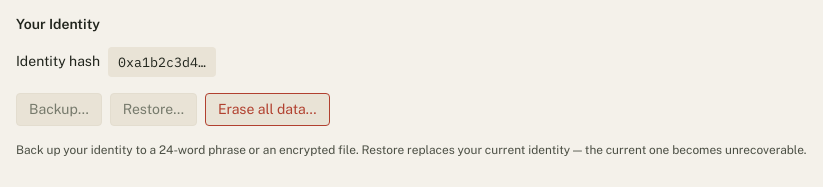
Test: IdentityPanel — wizard mode toggles › Cancel button in restore source picker returns to idle state
Expected: the button "0xa1b2c3d4…" is shown, [108,47,216,77]
Click the button "Restore…" at (153, 109), box [110,93,197,126]
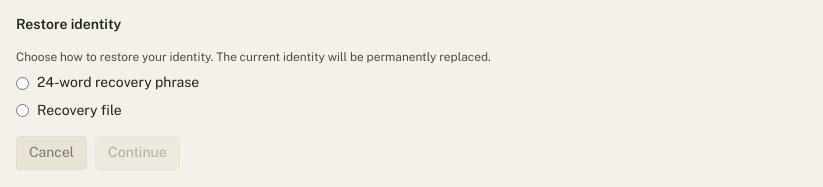
Now the heading "Restore identity" is shown, box [16,16,121,32]
Click the button "Cancel" at (52, 153), box [16,136,87,170]
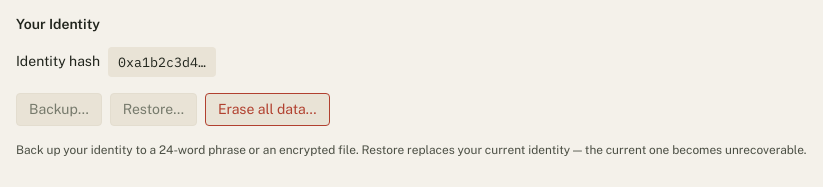
Now the button "0xa1b2c3d4…" is shown, box [108,47,216,77]
Now the button "Backup…" is shown, box [16,93,102,126]
Now the button "Restore…" is shown, box [110,93,197,126]
